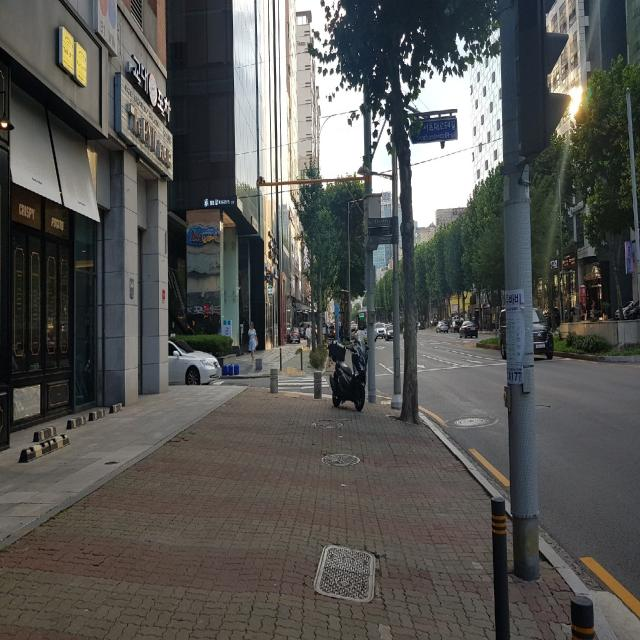횡단보도: (277, 375, 330, 389)
